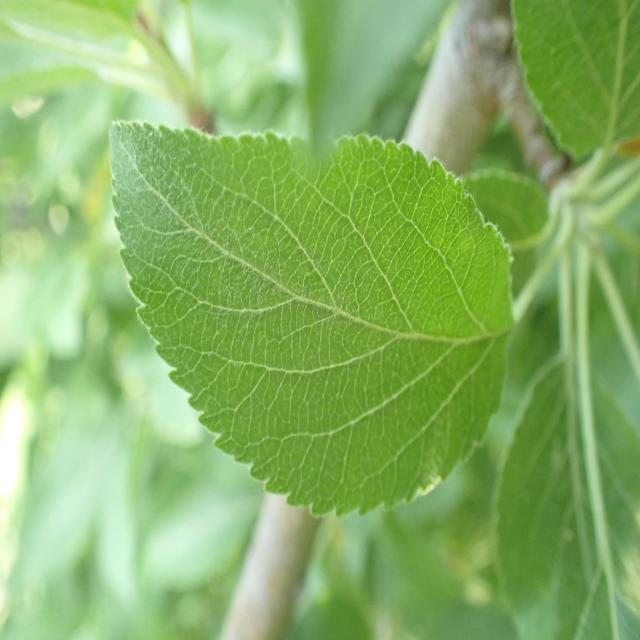healthy: (109, 116, 515, 518), (509, 0, 640, 164)
